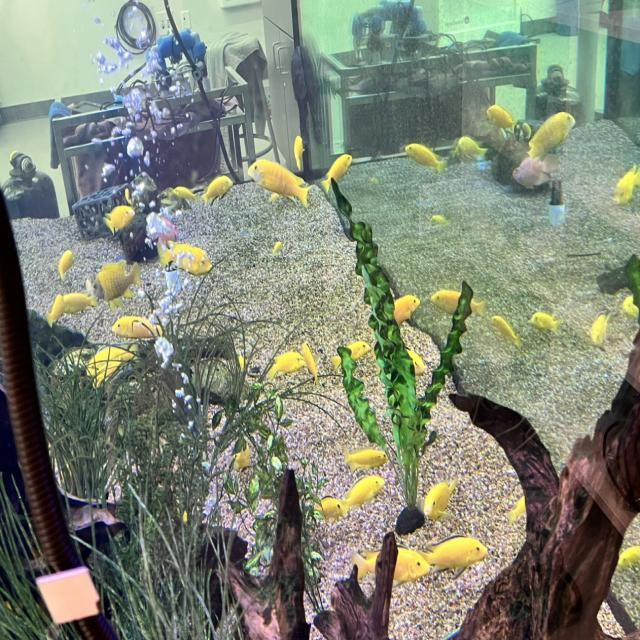YellowCichlid: (528, 98, 576, 172), (251, 156, 306, 217), (164, 238, 219, 289), (94, 258, 146, 306), (420, 474, 462, 520), (608, 156, 640, 213), (394, 141, 454, 171), (436, 536, 491, 568), (485, 96, 521, 142), (432, 289, 485, 320), (398, 538, 429, 590), (200, 173, 240, 210), (346, 477, 392, 509), (395, 282, 422, 334), (320, 148, 354, 187), (99, 198, 138, 231), (346, 446, 393, 472), (282, 128, 310, 170), (52, 240, 82, 279), (522, 306, 558, 338), (112, 314, 160, 338), (456, 126, 482, 167), (320, 492, 346, 533), (496, 310, 518, 353), (586, 307, 608, 349), (89, 346, 122, 374), (302, 337, 318, 394), (618, 542, 640, 583), (348, 334, 372, 366), (66, 292, 93, 320), (504, 492, 528, 522), (272, 348, 298, 371), (623, 290, 639, 320), (268, 232, 284, 262), (176, 180, 192, 208), (411, 348, 428, 374), (46, 291, 58, 327), (425, 210, 448, 226), (235, 450, 249, 468)
